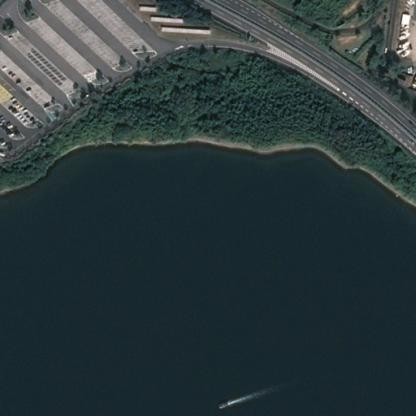ship: (218, 400, 230, 408)
